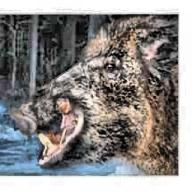boar: (8, 14, 178, 175)
